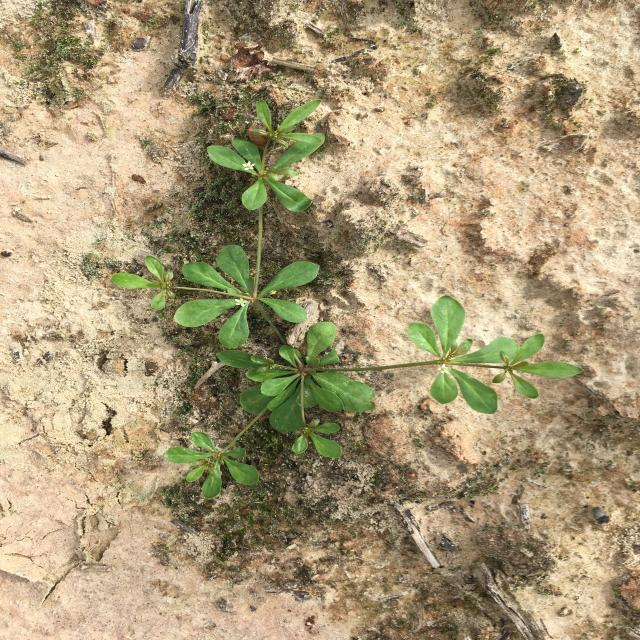Carpetweed: (111, 99, 584, 499)
